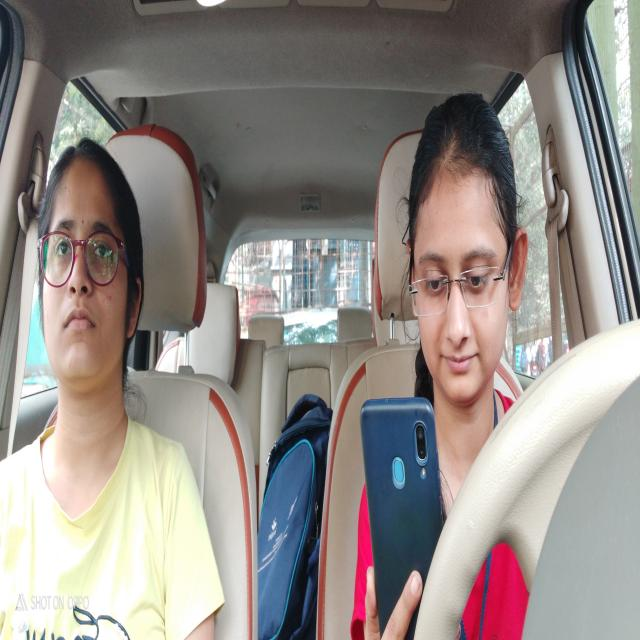mobile: (360, 387, 448, 640)
person: (407, 104, 527, 400), (33, 130, 144, 390)
